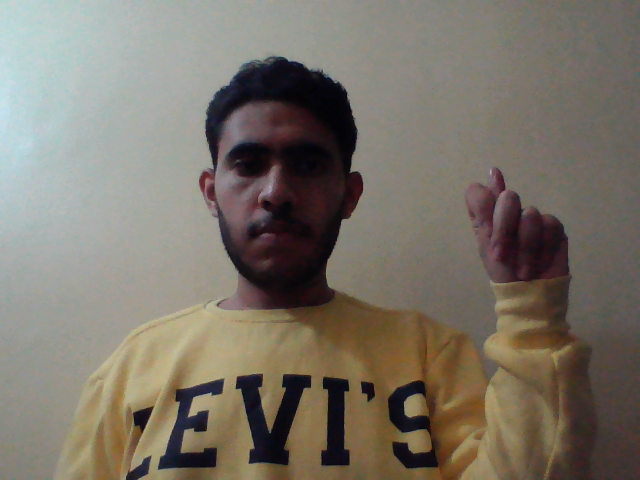T: (458, 159, 579, 292)
